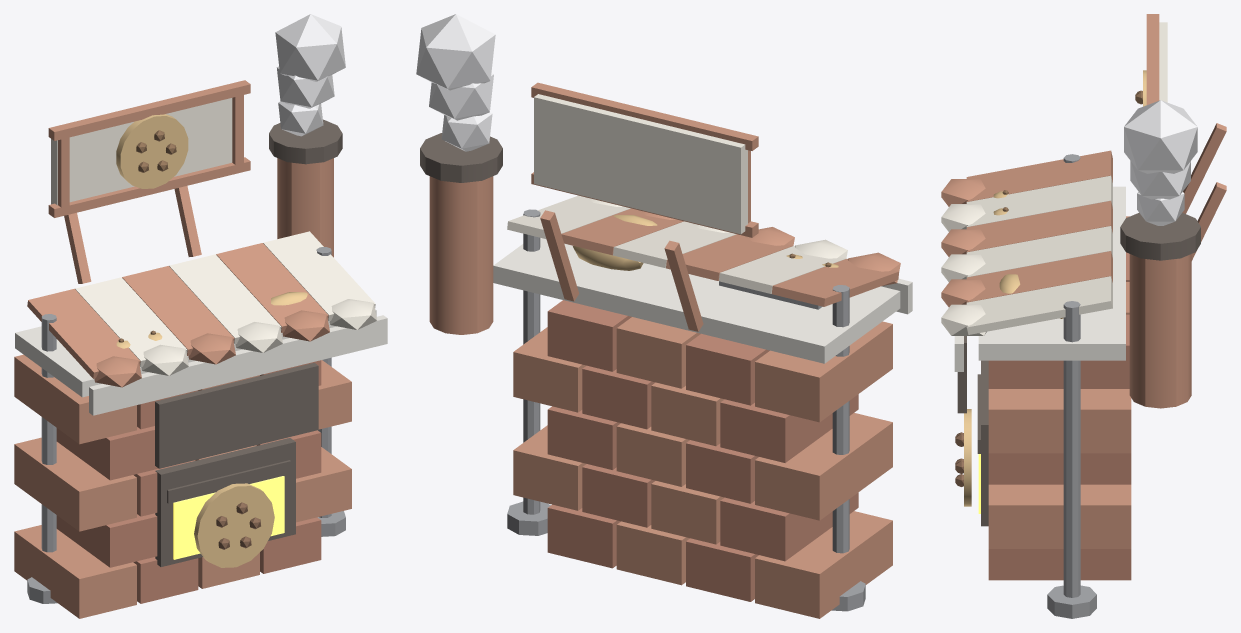
Rendered from stall_oven.glb.
3 renders of one model, left to right at view 1: azimuth 30°, elevation 25°; view 2: azimuth 150°, elevation 25°; view 3: azimuth 270°, elevation 25°, orthographic. The views are drawn at different scales.
Parts seen in each view (by area): view 1: stall_oven; view 2: stall_oven; view 3: stall_oven.
Part boxes in pixels (bbox=[...]): stall_oven: bbox=[14, 14, 387, 618]; stall_oven: bbox=[416, 14, 912, 618]; stall_oven: bbox=[941, 14, 1226, 618].
Bounding box in the file's own units: 2.87 × 3.72 × 1.84.
